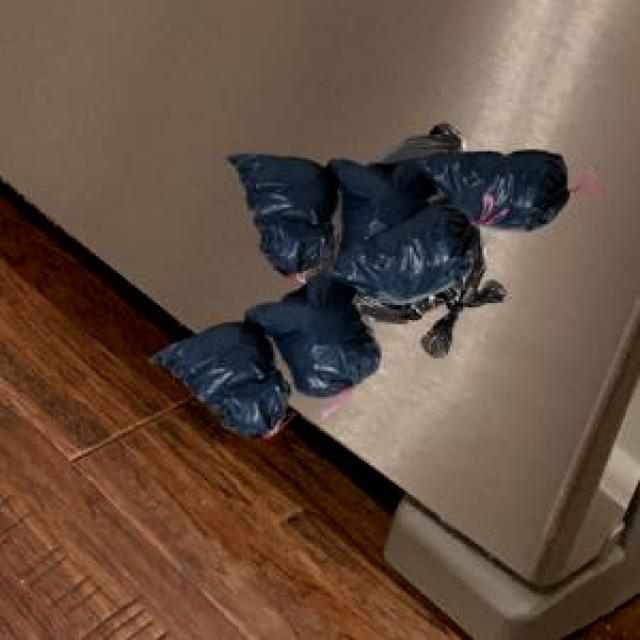Trashbag: (351, 203, 474, 305), (444, 139, 566, 236), (243, 150, 339, 273), (284, 286, 373, 392), (189, 325, 272, 433)
